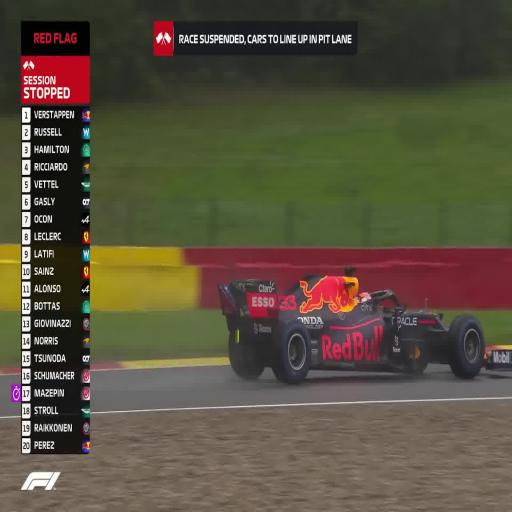f1_car: (218, 267, 512, 382)
